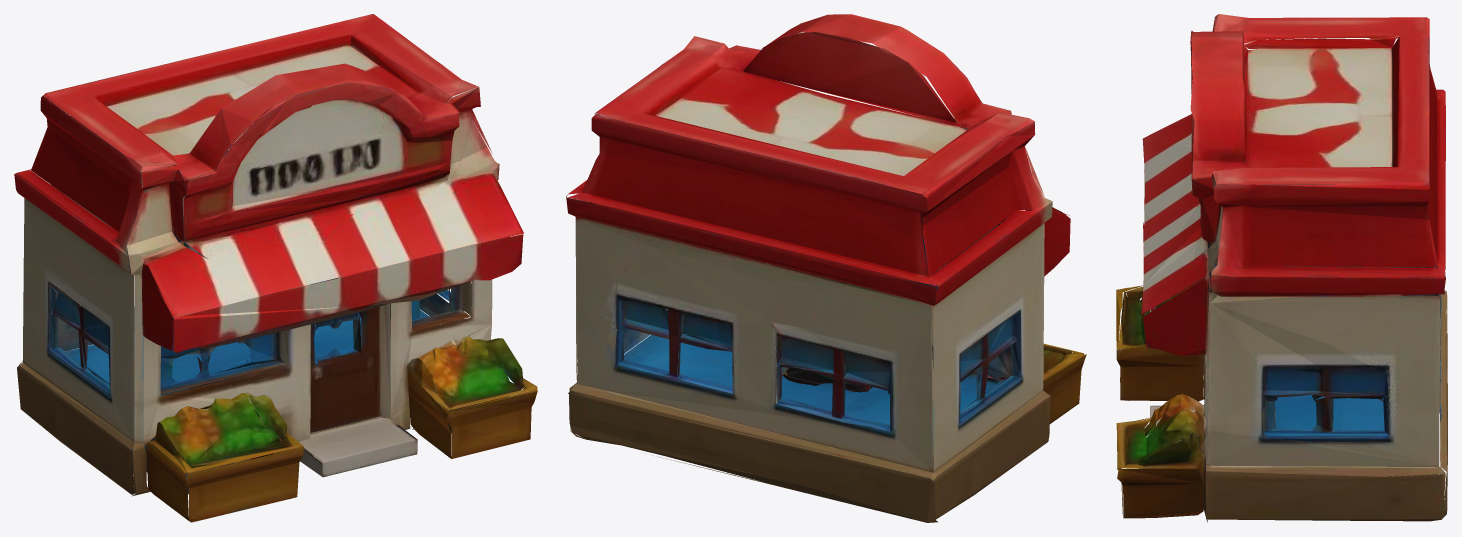
File: market.glb
The picture shows the model from 3 angles, left to right: view 1: azimuth 30°, elevation 25°; view 2: azimuth 150°, elevation 25°; view 3: azimuth 270°, elevation 25°; orthographic projection. The views are drawn at different scales.
Parts seen in each view (by area): view 1: geometry_0; view 2: geometry_0; view 3: geometry_0.
Boxes of the visible parts, box(x1,y1,x2,y2) form: geometry_0: box(14, 14, 537, 522); geometry_0: box(566, 14, 1086, 522); geometry_0: box(1116, 14, 1447, 522).
Size of the model in its own units: 0.496 by 0.4732 by 0.3711.
1 material, 1 textured.
